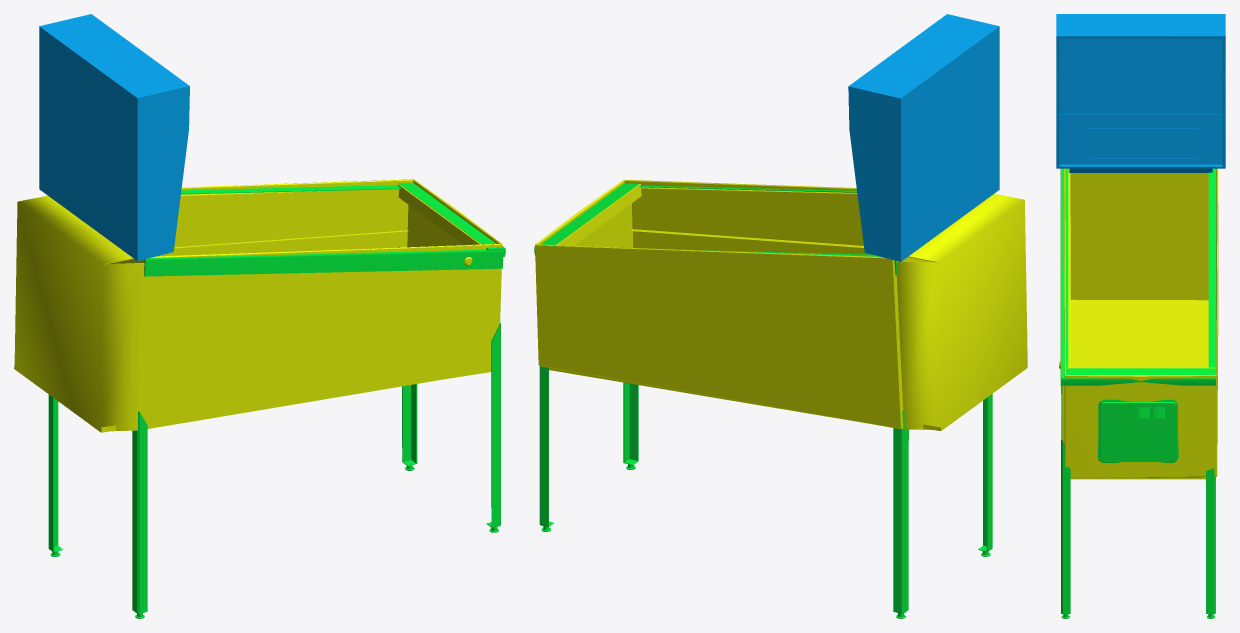
The model's file is NFL_Pinball_TestBorders.fbx.
3 views of the same model, side by side, from view 1: azimuth 30°, elevation 25°; view 2: azimuth 150°, elevation 25°; view 3: azimuth 270°, elevation 25° (orthographic). The views are drawn at different scales.
Parts seen in each view (by area): view 1: pinball:polySurface3, pinball:polySurface3.003, Cabinet_Box; view 2: Cabinet_Box, pinball:polySurface3, pinball:polySurface3.003; view 3: Cabinet_Box, pinball:polySurface3.003, pinball:polySurface3.
Part boxes in pixels (<box>): pinball:polySurface3: <box>14,183,505,618</box>; pinball:polySurface3.003: <box>39,14,189,261</box>; Cabinet_Box: <box>109,179,502,324</box>; Cabinet_Box: <box>535,180,933,429</box>; pinball:polySurface3: <box>534,183,1027,618</box>; pinball:polySurface3.003: <box>848,14,999,261</box>; Cabinet_Box: <box>1063,168,1218,477</box>; pinball:polySurface3.003: <box>1056,14,1225,172</box>; pinball:polySurface3: <box>1059,168,1217,618</box>.
Size of the model in its own units: 149 by 184 by 62.51.
